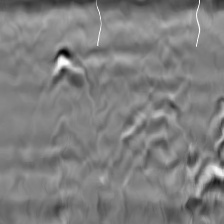Utility: (121, 98, 182, 165), (48, 43, 88, 92), (190, 166, 224, 206), (203, 97, 224, 153)
